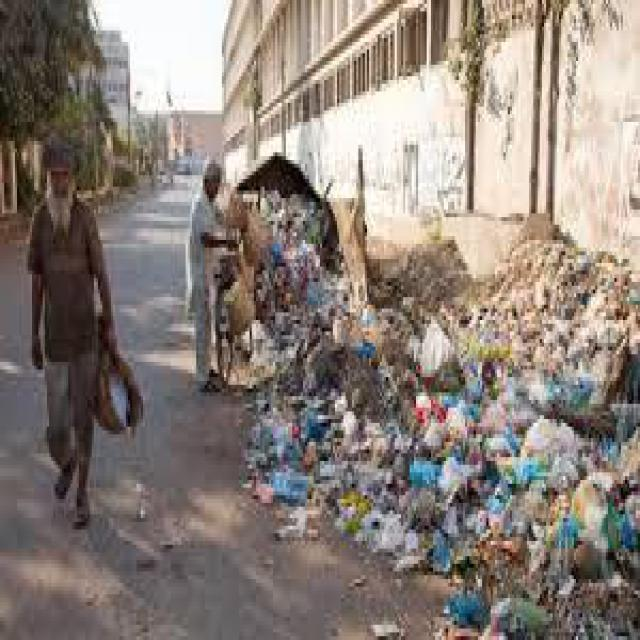garbage: (350, 301, 638, 590), (243, 187, 337, 480), (441, 579, 638, 636)
